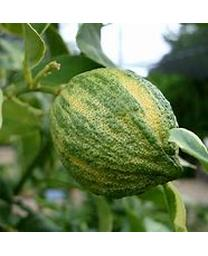lemon: (50, 68, 187, 197)
